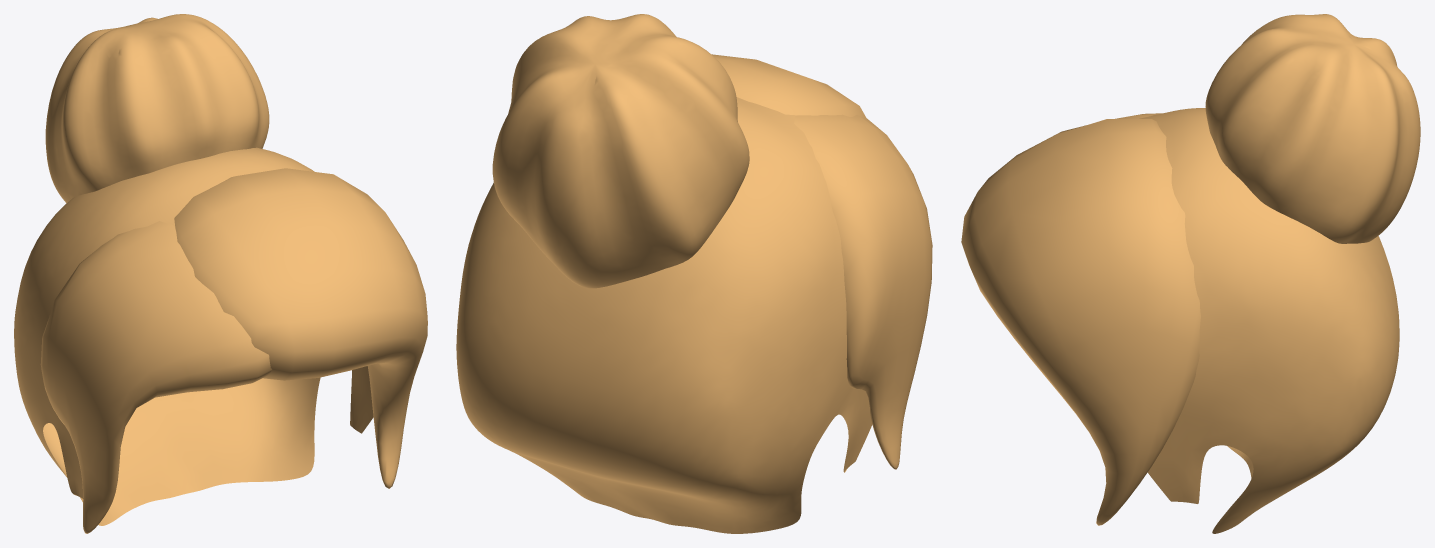
The model's file is hair-005-049d27ec.glb.
3 renders of one model, left to right at view 1: azimuth 30°, elevation 25°; view 2: azimuth 150°, elevation 25°; view 3: azimuth 270°, elevation 25°, orthographic. The views are drawn at different scales.
Visible parts, largest first — view 1: Geo_Female_White_Hair.011; view 2: Geo_Female_White_Hair.011; view 3: Geo_Female_White_Hair.011.
Part boxes in pixels (x1,y1,x2,y2): Geo_Female_White_Hair.011: [14, 14, 427, 533]; Geo_Female_White_Hair.011: [456, 14, 932, 533]; Geo_Female_White_Hair.011: [961, 14, 1420, 533].
Size of the model in its own units: 1.66 by 2.12 by 1.92.
